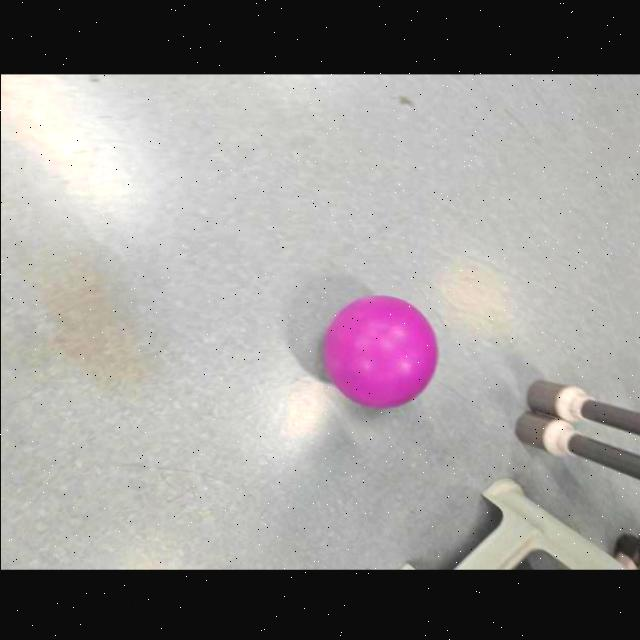P: (321, 296, 441, 412)
